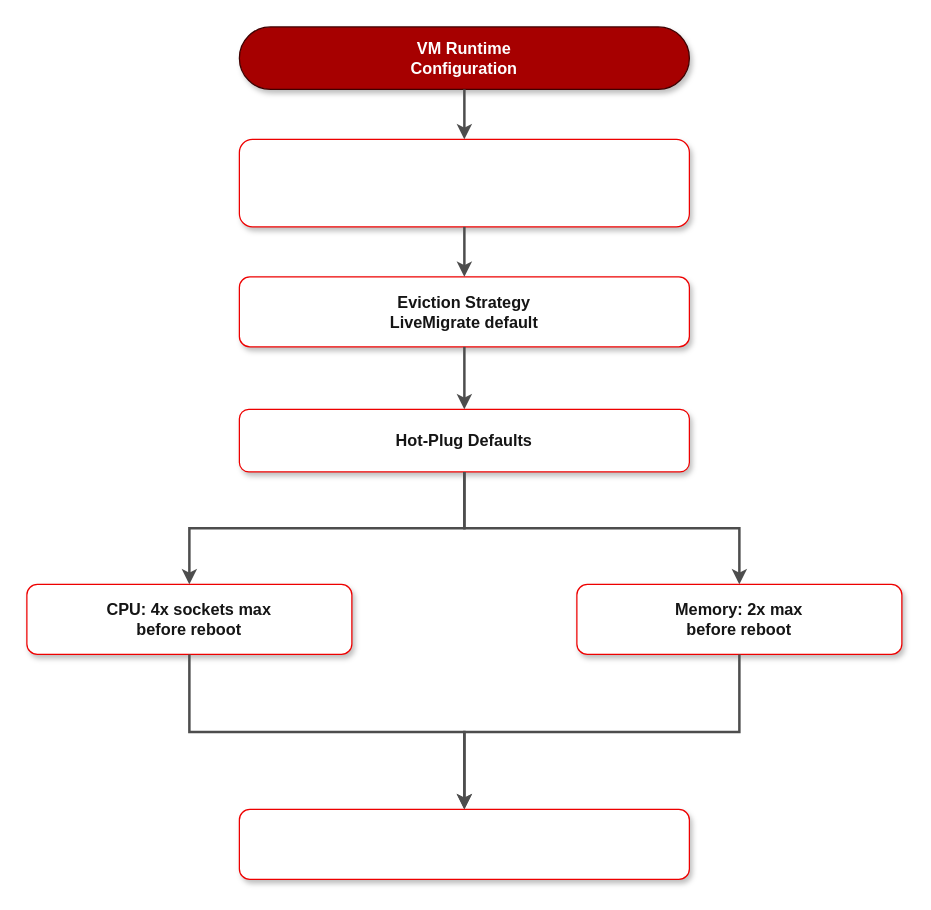
The diagram is 931 pixels wide and 910 high, and some of its shapes have lost their labels. Each missing label, with the centre of its shape:
CPU Overcommit Percentage-based target TBD: pixel 465 845
Schedulable Masters Infra + VMs co-located No dedicated infra nodes: pixel 465 184
